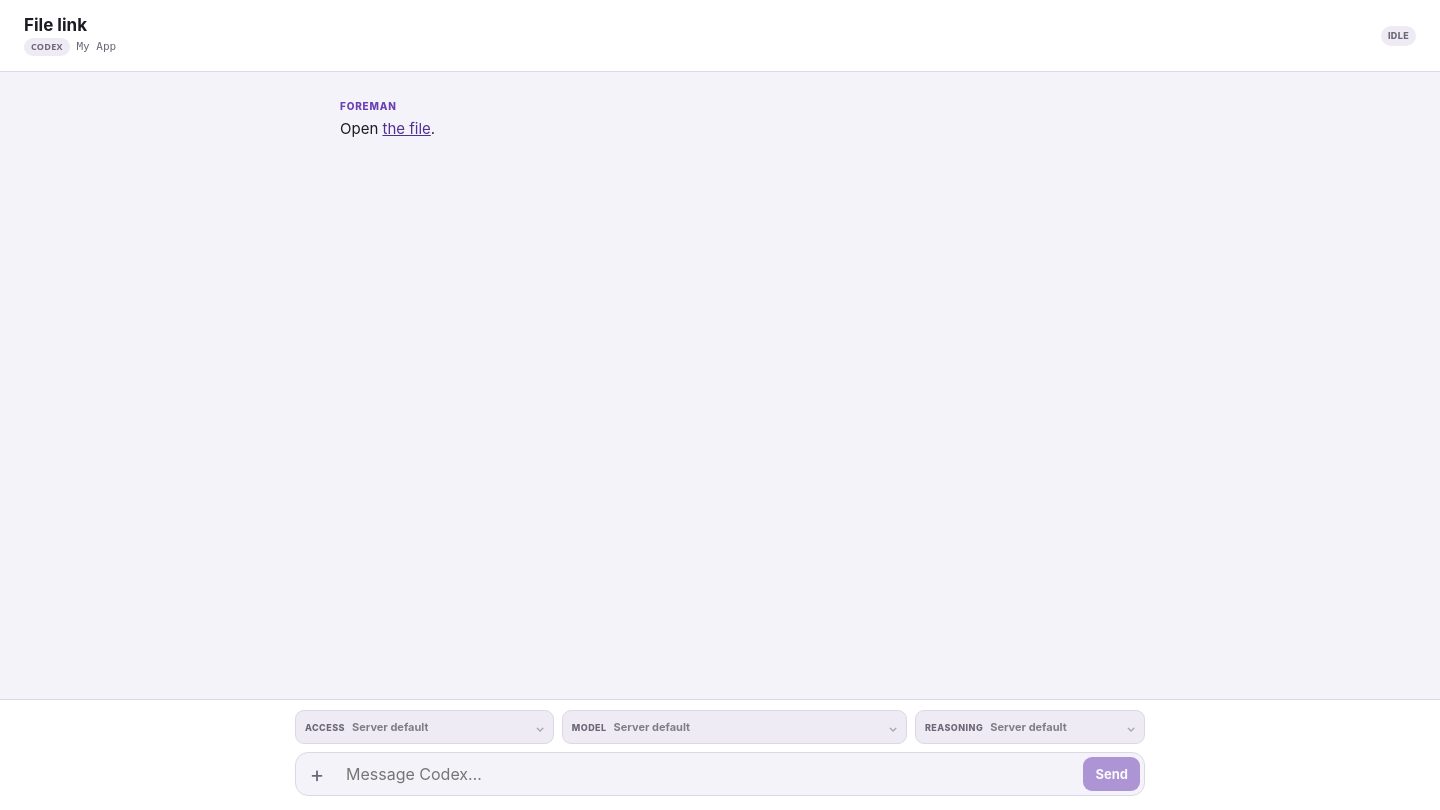
Scenario: assistant workspace file links › opens a linked workspace file at the requested line
The image size is (1440, 810).
What coordinates should you click on to do the following:
click the link "the file"
I would click on:
 (407, 129)
Its box is top-left (382, 119), bottom-right (431, 138).
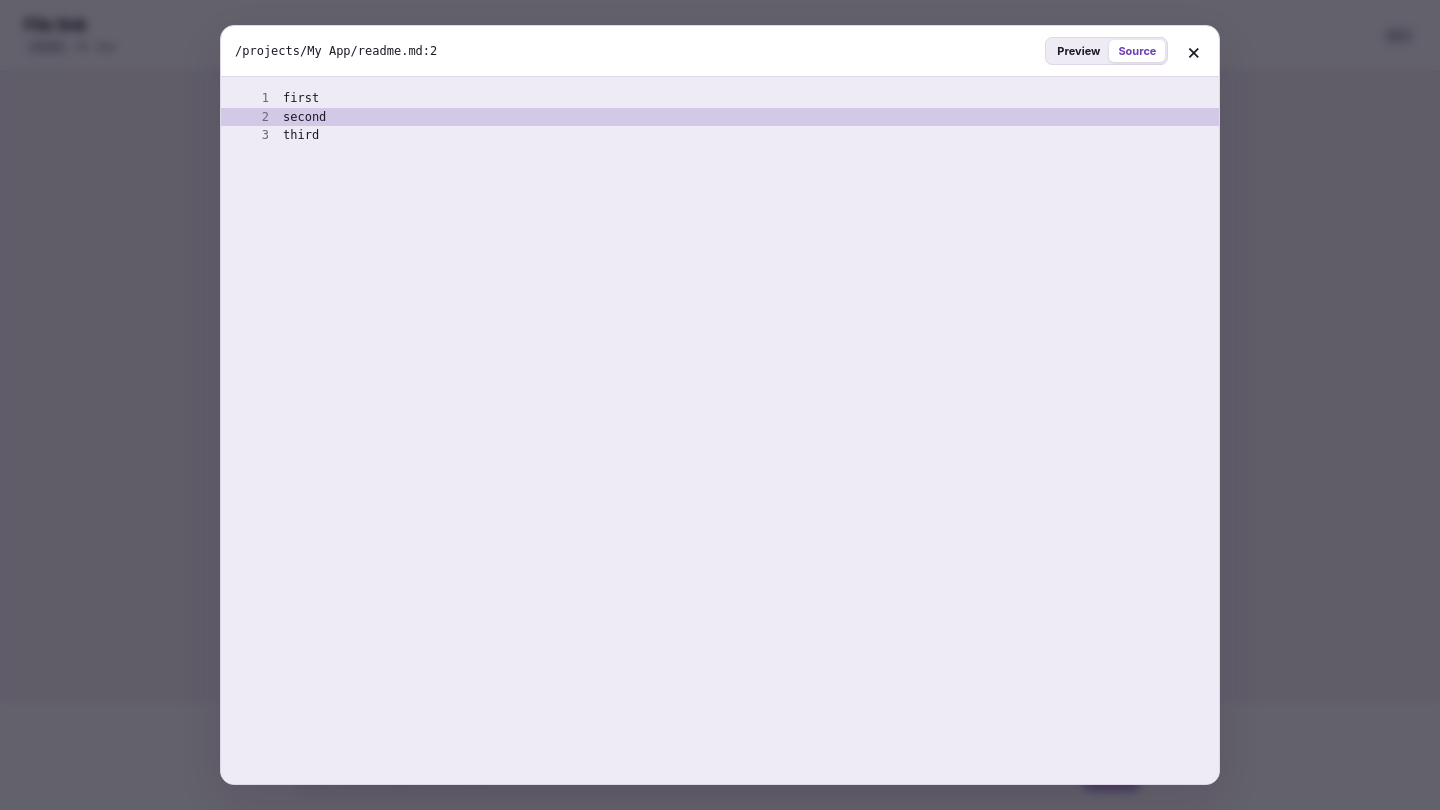
Check: the dialog named "Workspace file /projects/My App/readme.md" is shown
